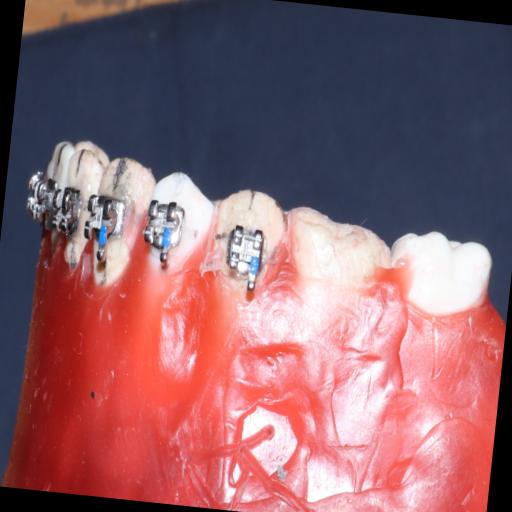incorrect_brace: (224, 224, 270, 280)
